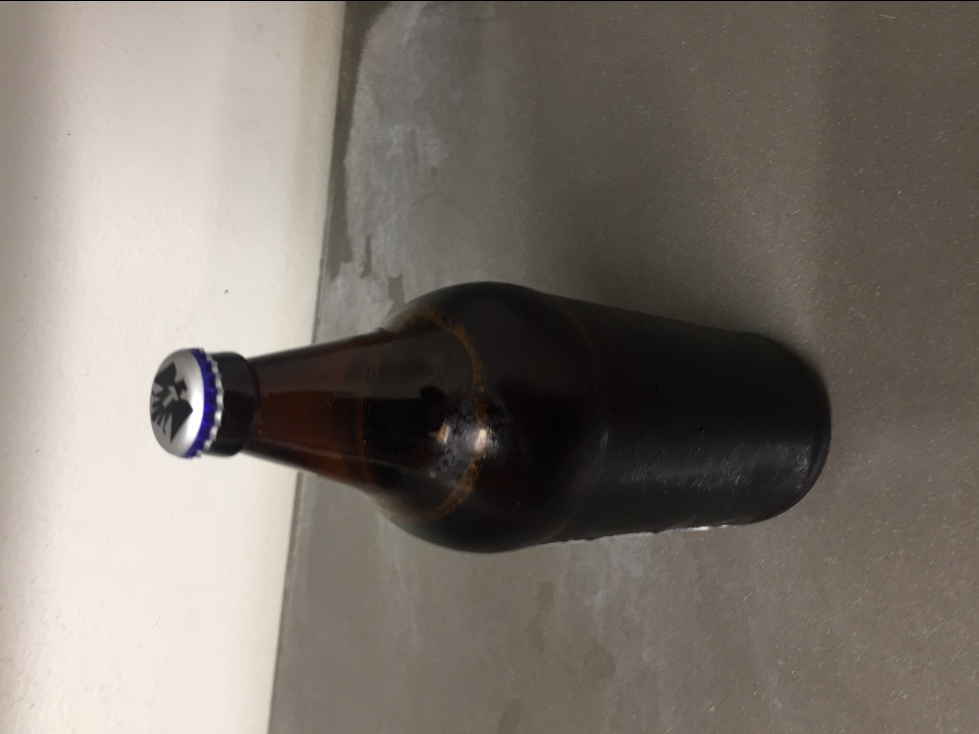tecateC: (146, 282, 831, 555)
